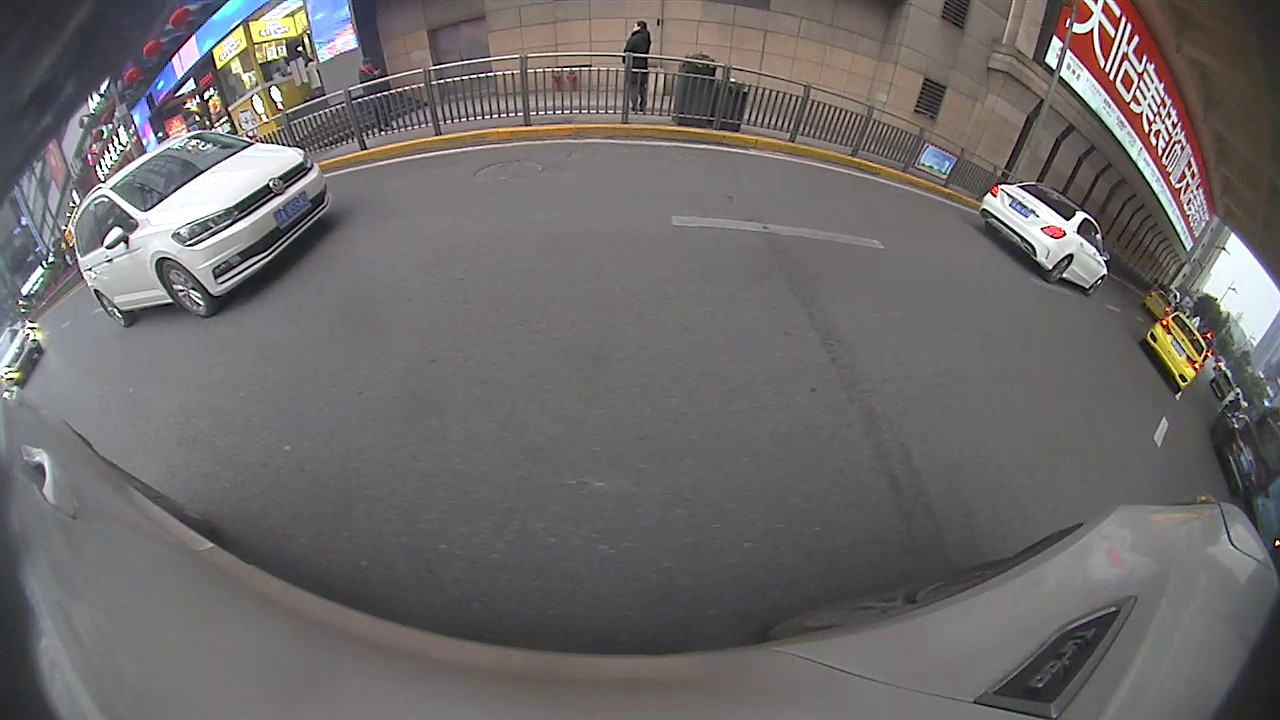car: (70, 126, 333, 328), (977, 180, 1111, 295), (1141, 310, 1210, 391), (1210, 405, 1266, 498)
front: (156, 261, 213, 320), (1085, 276, 1106, 296)
person: (619, 20, 653, 113)
rear: (95, 291, 128, 330), (1047, 257, 1072, 284)
